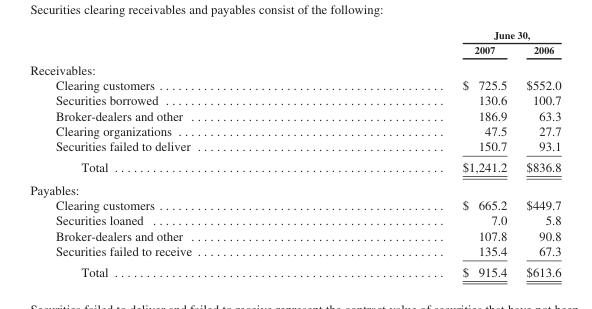table: (29, 28, 560, 278)
table column: (29, 28, 326, 278), (326, 28, 515, 278), (515, 28, 560, 278)
table column header: (29, 28, 560, 58)
table projected row header: (29, 177, 560, 197), (29, 58, 560, 77)
table row: (29, 156, 560, 177), (29, 177, 560, 197), (29, 58, 560, 77), (29, 138, 560, 156), (29, 243, 560, 261), (29, 261, 560, 278), (29, 42, 560, 58), (29, 107, 560, 123), (29, 227, 560, 243), (29, 77, 560, 92), (29, 92, 560, 107), (29, 123, 560, 138), (29, 197, 560, 212), (29, 212, 560, 227), (29, 28, 560, 42)
table spanning cell: (326, 28, 560, 42)
